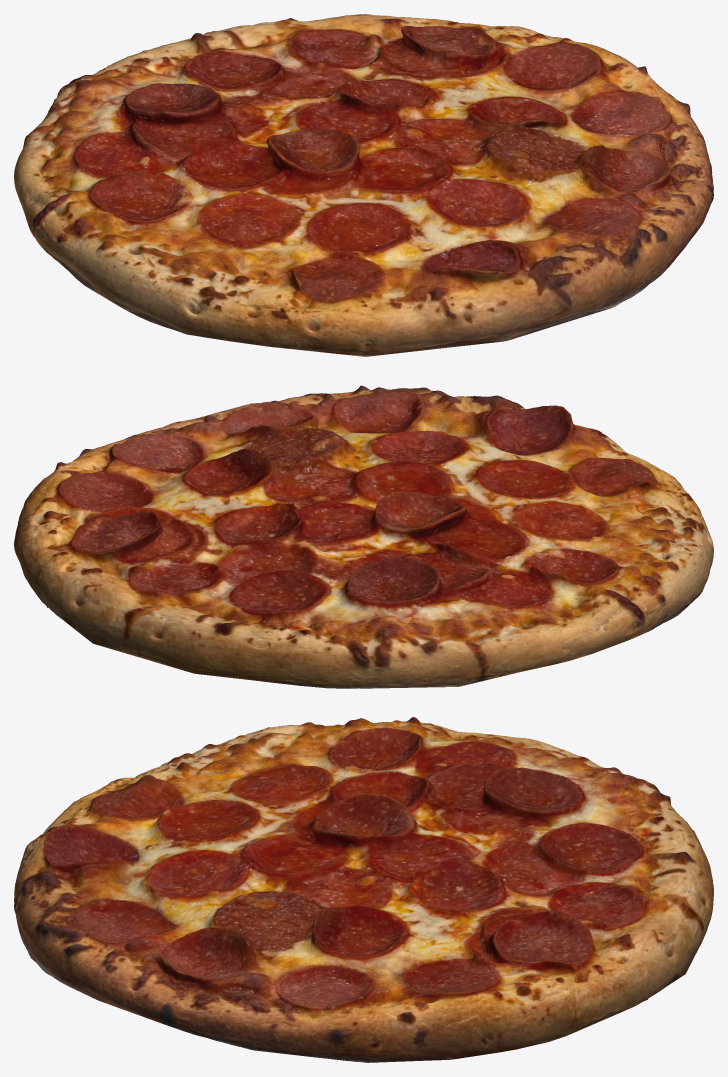
The model's file is food3.glb.
3 views of the same model, one above another, from view 1: azimuth 30°, elevation 25°; view 2: azimuth 150°, elevation 25°; view 3: azimuth 270°, elevation 25° (orthographic). The views are drawn at different scales.
Visible parts, largest first — view 1: mesh_0; view 2: mesh_0; view 3: mesh_0.
Boxes of the visible parts, left/top/right/bottom form: mesh_0: left=14, top=14, right=713, bottom=356; mesh_0: left=14, top=385, right=713, bottom=688; mesh_0: left=14, top=717, right=713, bottom=1062.
Size of the model in its own units: 0.2936 by 0.0369 by 0.284.
1 material, 1 textured.
